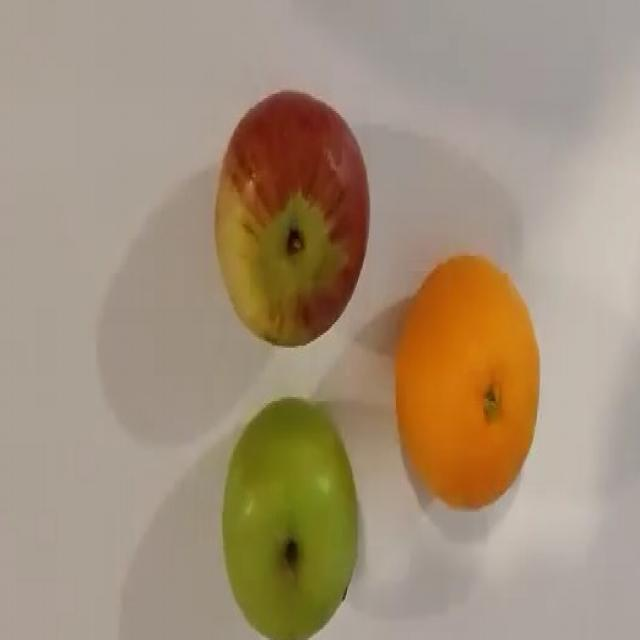Apple: (213, 89, 370, 347), (221, 397, 358, 639)
Orange: (393, 252, 540, 510)
